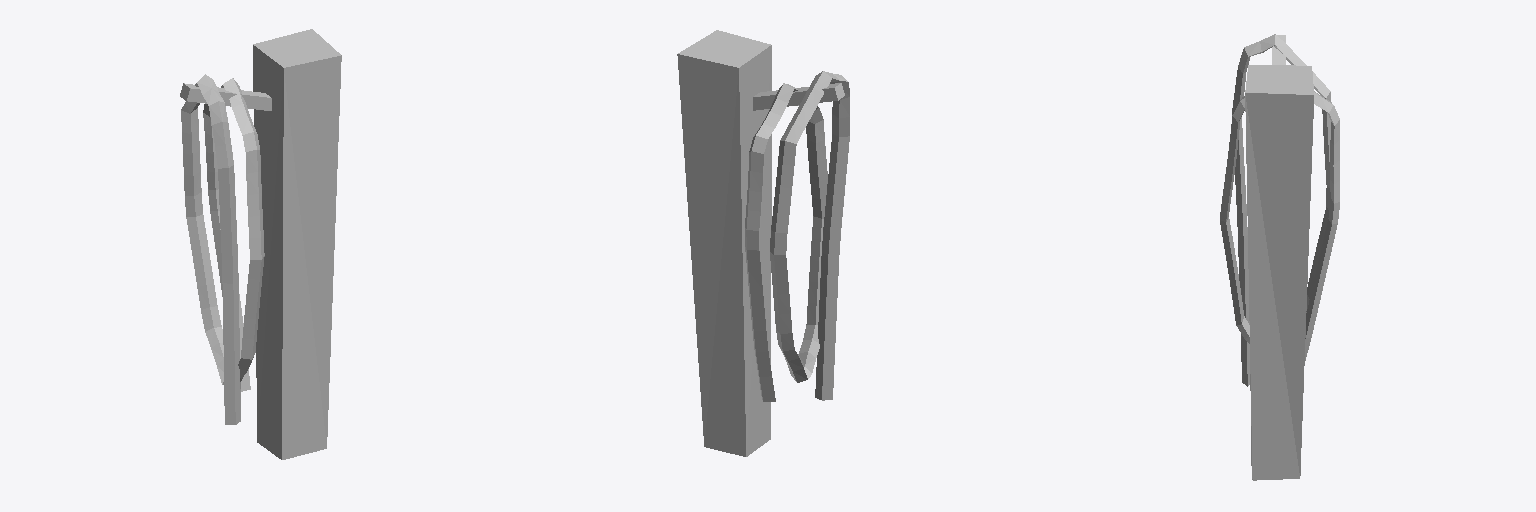
Rendered from rope.obj.
The picture shows the model from 3 angles: view 1: azimuth 30°, elevation 25°; view 2: azimuth 150°, elevation 25°; view 3: azimuth 270°, elevation 25°; orthographic projection.
Parts seen in each view (by area): view 1: Cube, Cylinder, Cube.001; view 2: Cube, Cylinder, Cube.001; view 3: Cube, Cylinder.
Part boxes in pixels (x1,y1,x2,y2): Cube: (253, 29, 341, 459); Cylinder: (181, 74, 264, 424); Cube.001: (180, 83, 271, 110); Cube: (677, 30, 771, 456); Cylinder: (745, 71, 849, 401); Cube.001: (753, 83, 844, 110); Cube: (1245, 65, 1313, 480); Cylinder: (1220, 34, 1339, 386).
Size of the model in its own units: 0.2924 by 0.7482 by 0.2083.